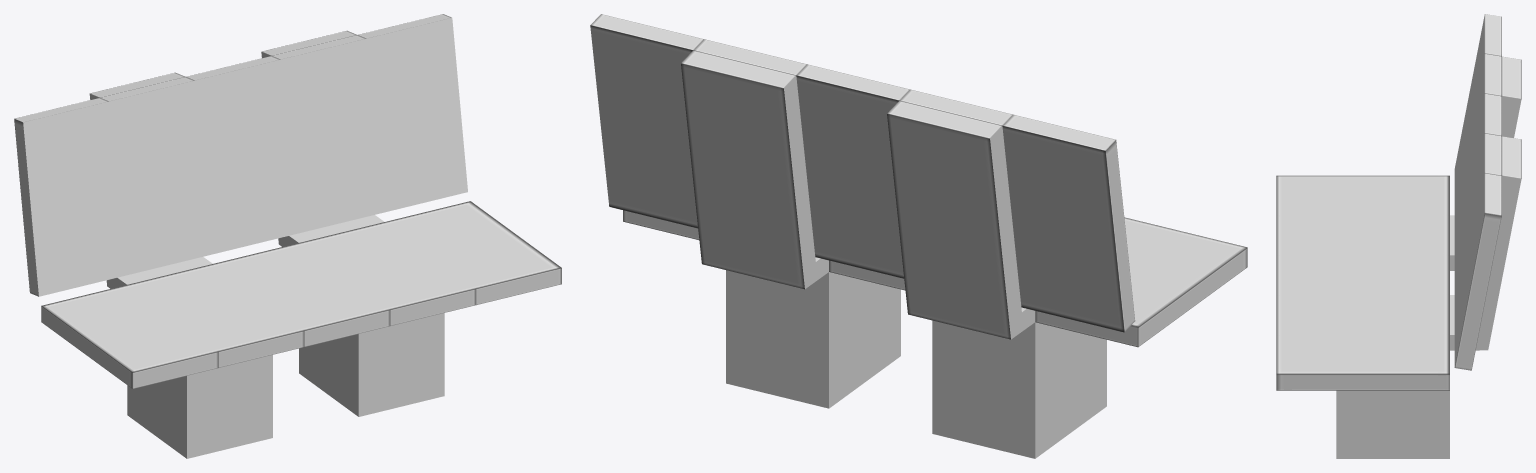
Rendered from Bench-01.fbx.
The picture shows the model from 3 angles, left to right: view 1: azimuth 30°, elevation 25°; view 2: azimuth 150°, elevation 25°; view 3: azimuth 270°, elevation 25°; orthographic projection. The views are drawn at different scales.
Visible parts, largest first — view 1: Bench_01; view 2: Bench_01; view 3: Bench_01.
Part boxes in pixels (x1=…): Bench_01: x1=14, y1=14, x2=561, y2=458; Bench_01: x1=590, y1=14, x2=1247, y2=458; Bench_01: x1=1276, y1=14, x2=1521, y2=458.
Size of the model in its own units: 0.9115 by 0.6095 by 0.474.
